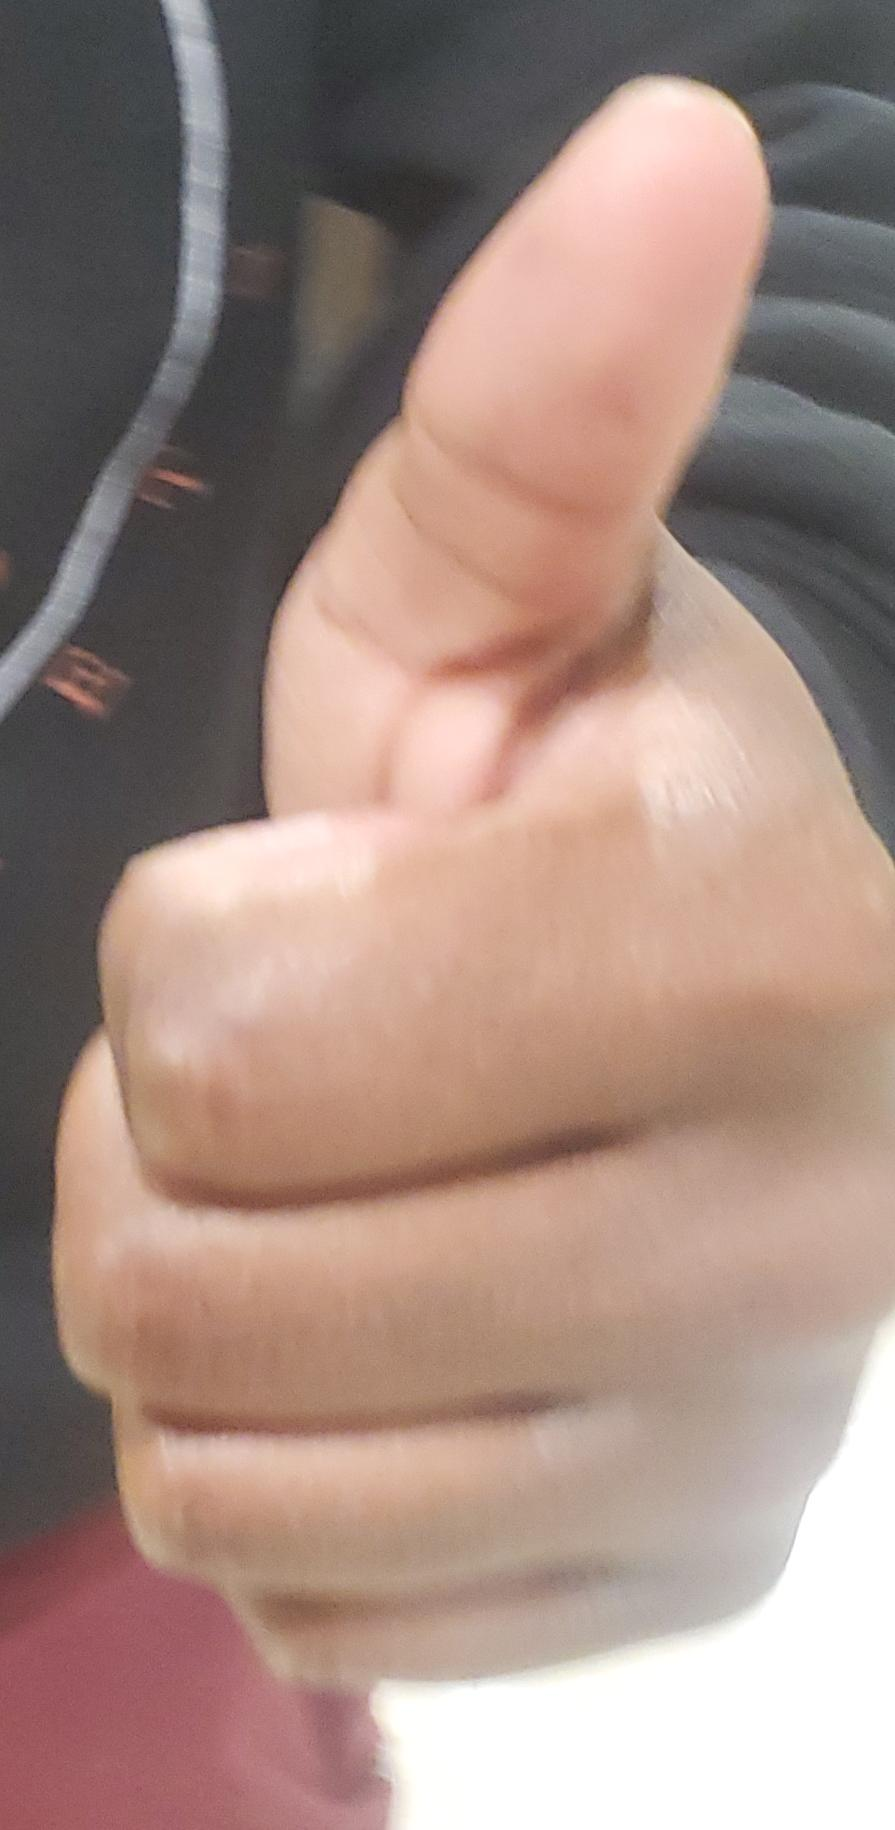up: (0, 1, 895, 1830)
